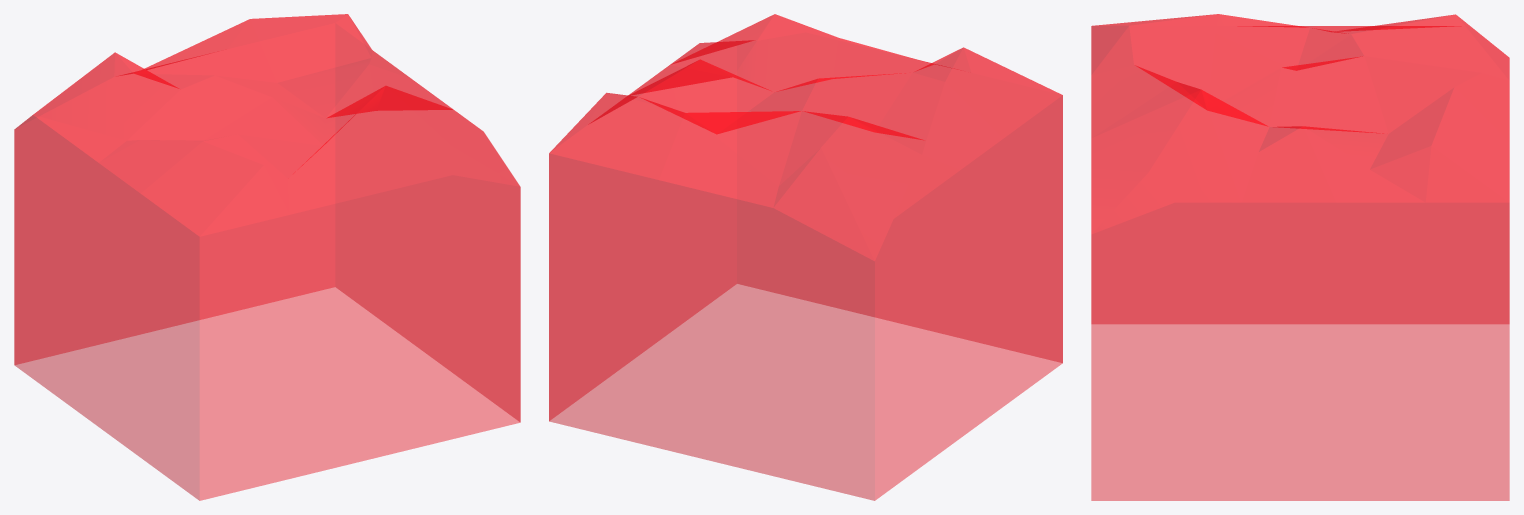
File: PowerPilon@intro.fbx
3 views of the same model, side by side, from view 1: azimuth 30°, elevation 25°; view 2: azimuth 150°, elevation 25°; view 3: azimuth 270°, elevation 25° (orthographic). The views are drawn at different scales.
Parts seen in each view (by area): view 1: pPlane3; view 2: pPlane3; view 3: pPlane3.
Part boxes in pixels (<box>): pPlane3: <box>14,14,520,500</box>; pPlane3: <box>549,14,1062,500</box>; pPlane3: <box>1091,14,1509,500</box>.
Size of the model in its own units: 654 by 628 by 654.
